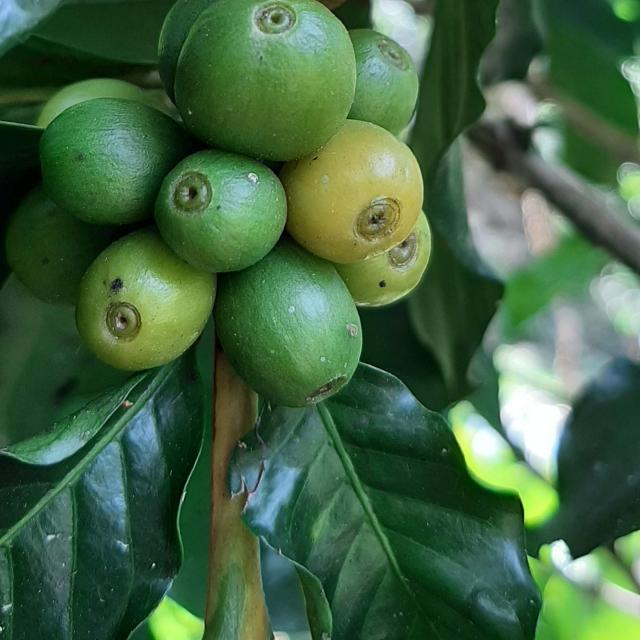green: (174, 0, 356, 161), (214, 236, 362, 407), (39, 97, 193, 225), (154, 149, 287, 272), (4, 186, 115, 304), (348, 28, 419, 135), (158, 0, 218, 102), (35, 78, 142, 127)
yellow: (280, 119, 424, 263), (75, 227, 215, 371), (333, 210, 432, 307)
